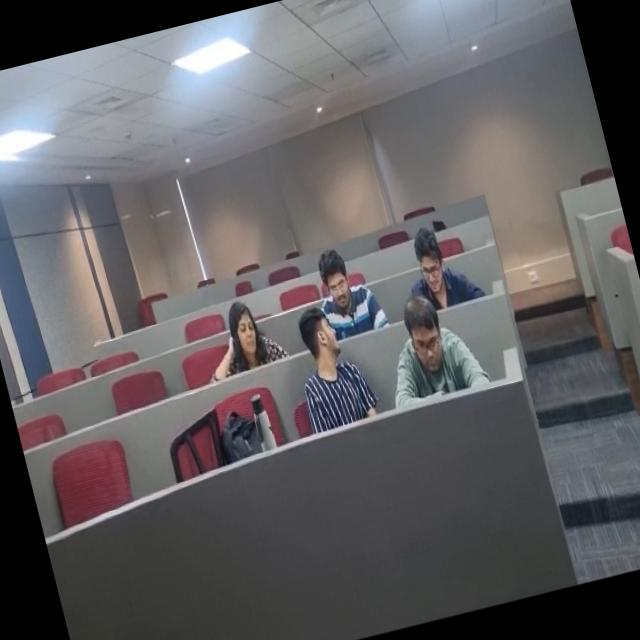cheating: (284, 310, 376, 440), (198, 288, 286, 386), (402, 215, 476, 313)
non-cheating: (374, 283, 484, 410), (310, 235, 386, 341)
